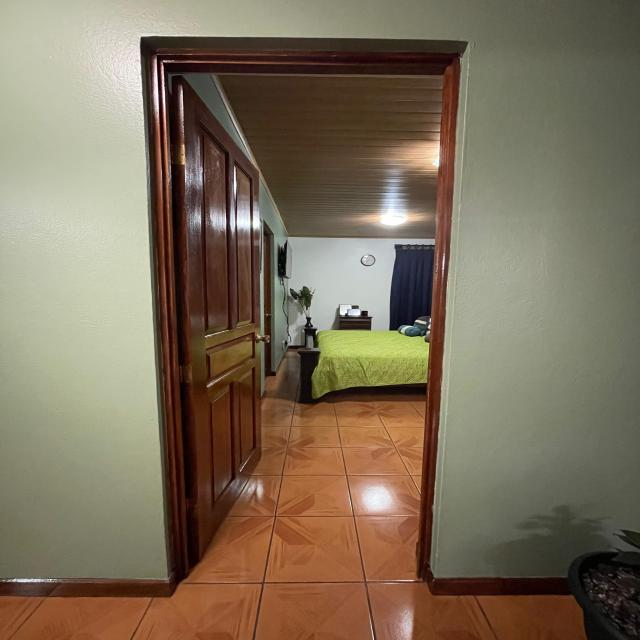OpenDoor: (139, 38, 441, 586)
